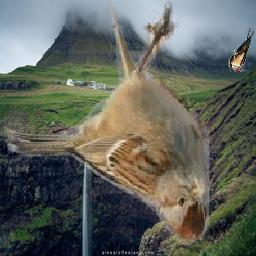Sparrow: (5, 2, 216, 247)
Swallow: (228, 28, 254, 72)
